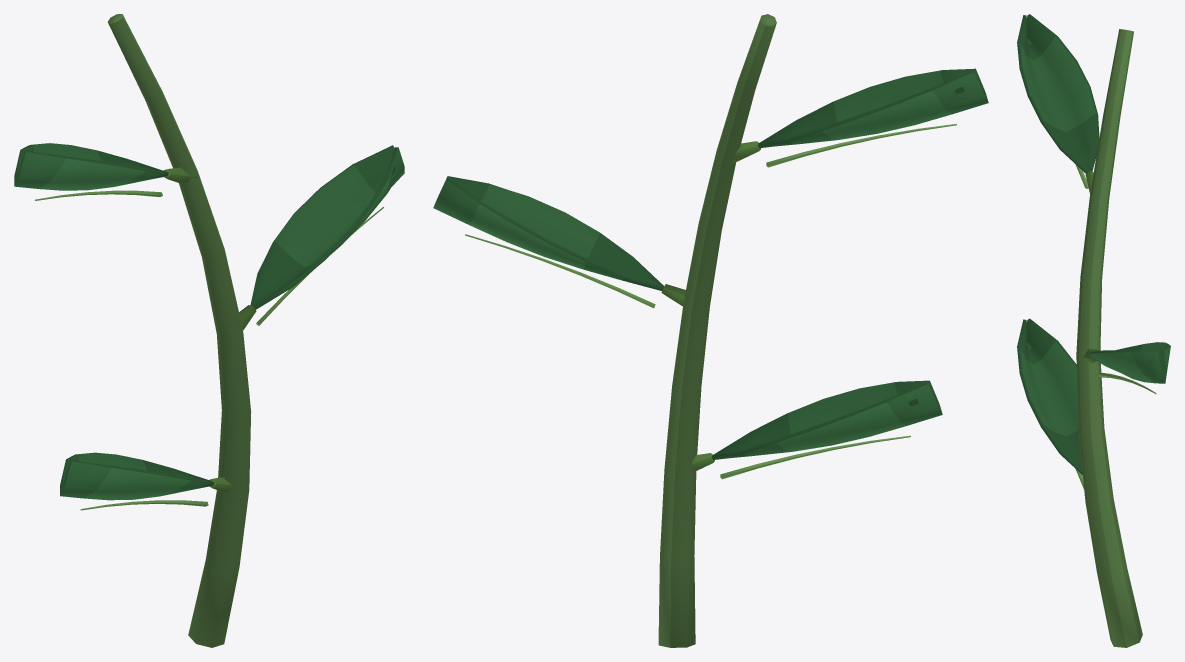
The model's file is garden-zinnia-bud-stem-0.glb.
The picture shows the model from 3 angles, left to right: view 1: azimuth 30°, elevation 25°; view 2: azimuth 150°, elevation 25°; view 3: azimuth 270°, elevation 25°; orthographic projection. The views are drawn at different scales.
Visible parts, largest first — view 1: zinnia-bud-stem-0; view 2: zinnia-bud-stem-0; view 3: zinnia-bud-stem-0.
Boxes of the visible parts, x1,y1,x2,y2 form: zinnia-bud-stem-0: (14, 14, 404, 647); zinnia-bud-stem-0: (433, 14, 988, 647); zinnia-bud-stem-0: (1017, 14, 1170, 647).
Bounding box in the file's own units: 0.1997 × 0.2624 × 0.0636.
